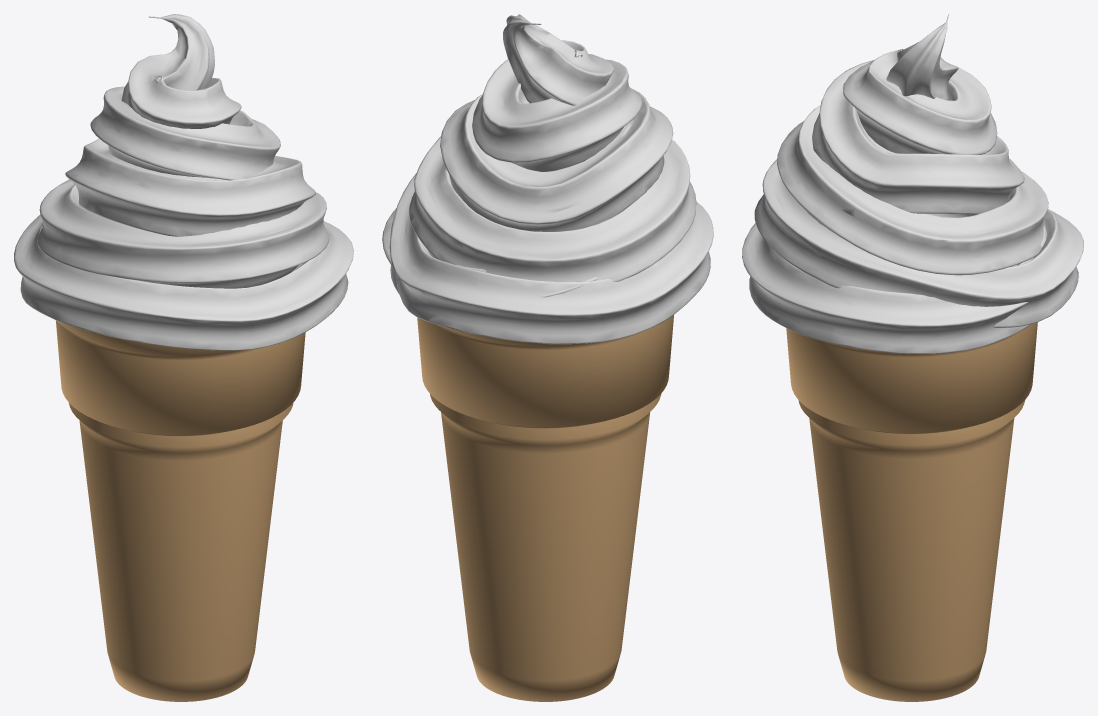
The model's file is GlassVIT.glb.
3 renders of one model, left to right at view 1: azimuth 30°, elevation 25°; view 2: azimuth 150°, elevation 25°; view 3: azimuth 270°, elevation 25°, orthographic. The views are drawn at different scales.
Visible parts, largest first — view 1: Cylinder.377; view 2: Cylinder.377; view 3: Cylinder.377.
Boxes of the visible parts, x1,y1,x2,y2 form: Cylinder.377: (14,14,353,701); Cylinder.377: (382,14,713,701); Cylinder.377: (742,14,1083,701).
Bounding box in the file's own units: 1.09 × 2.33 × 1.11.
